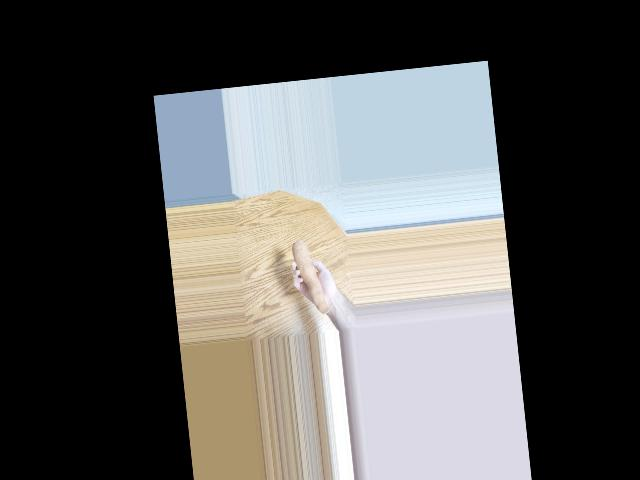sweet_potato: (289, 241, 325, 312)
